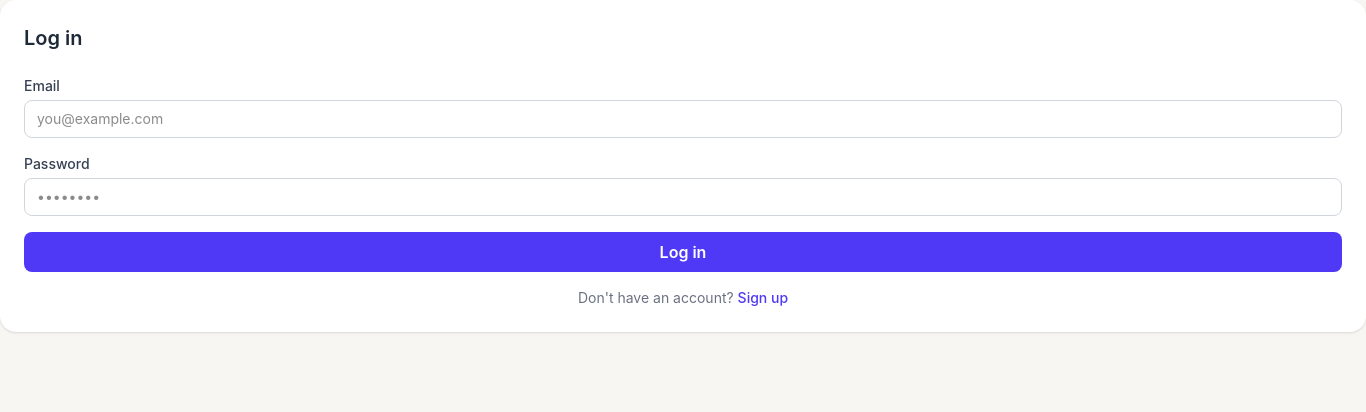
Test case: auth flow › shows an error for invalid login credentials
The width and height of the screenshot is (1366, 412).
Type "ghost@example.com" into the field with test id "auth-login-email" at [683, 119], box x1=24 y1=100 x2=1342 y2=138
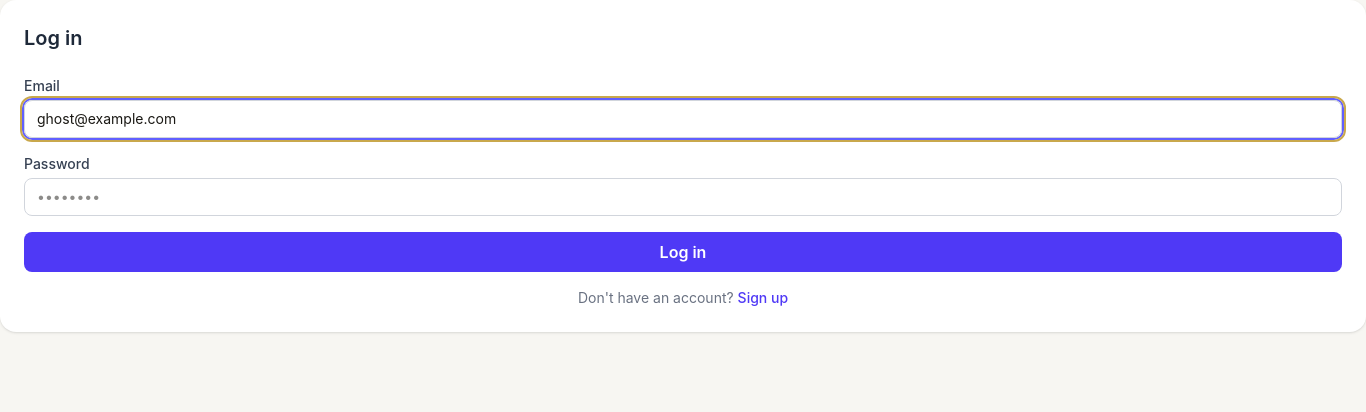
Type "wrongpass" into the password field with test id "auth-login-password" at [683, 197], box x1=24 y1=178 x2=1342 y2=216
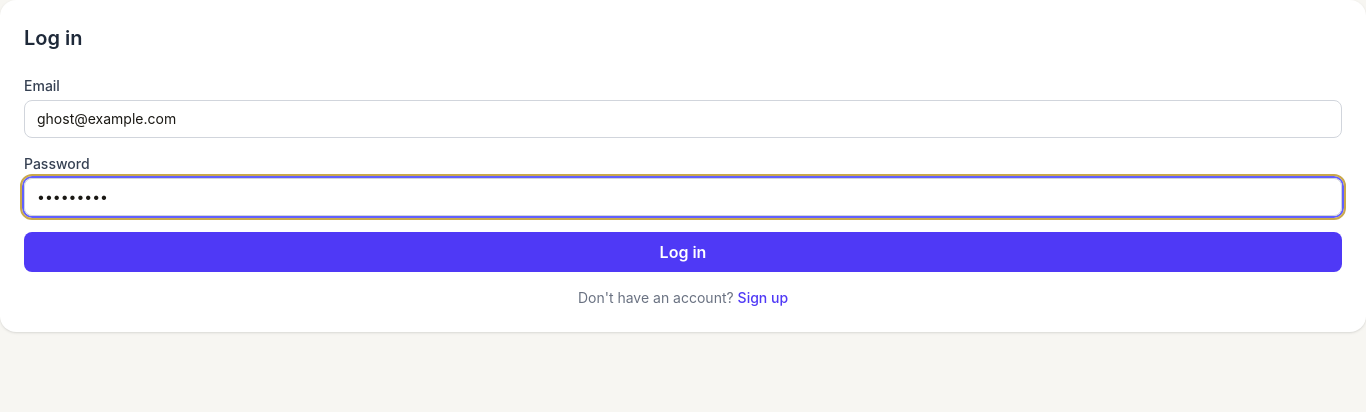
Click the button with test id "auth-login-submit" at [683, 252], box x1=24 y1=232 x2=1342 y2=272
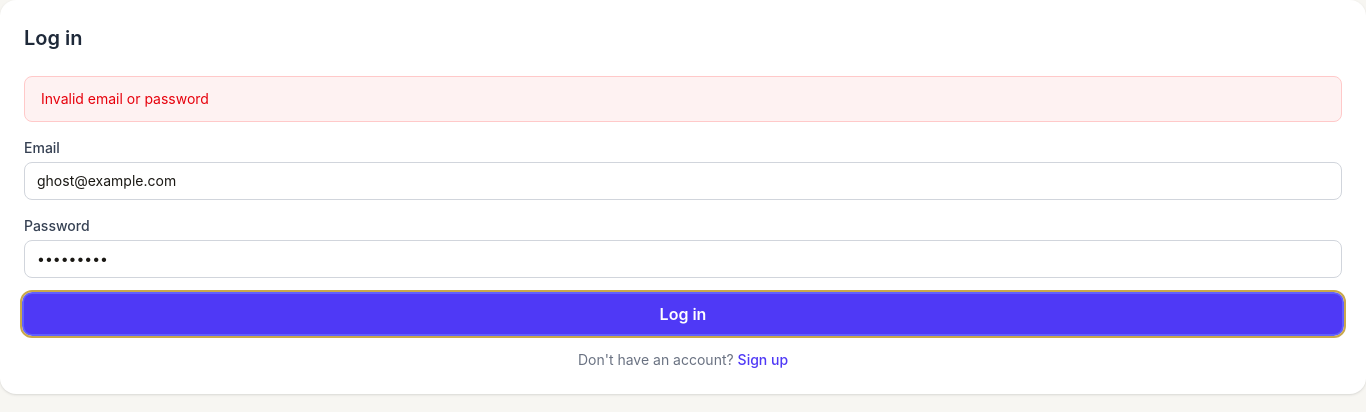
Now the message reads "Invalid email or password", box x1=41 y1=90 x2=209 y2=107
